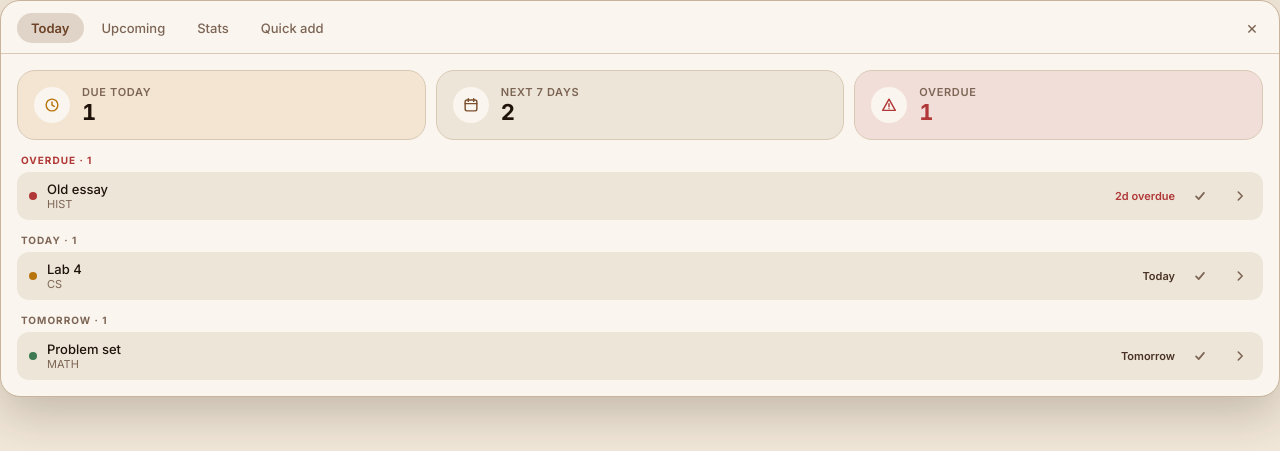
Scenario: QuickPanel › Upcoming tab lists open assignments from today on
Click the tab "Upcoming" at (133, 28), box [88, 13, 179, 43]
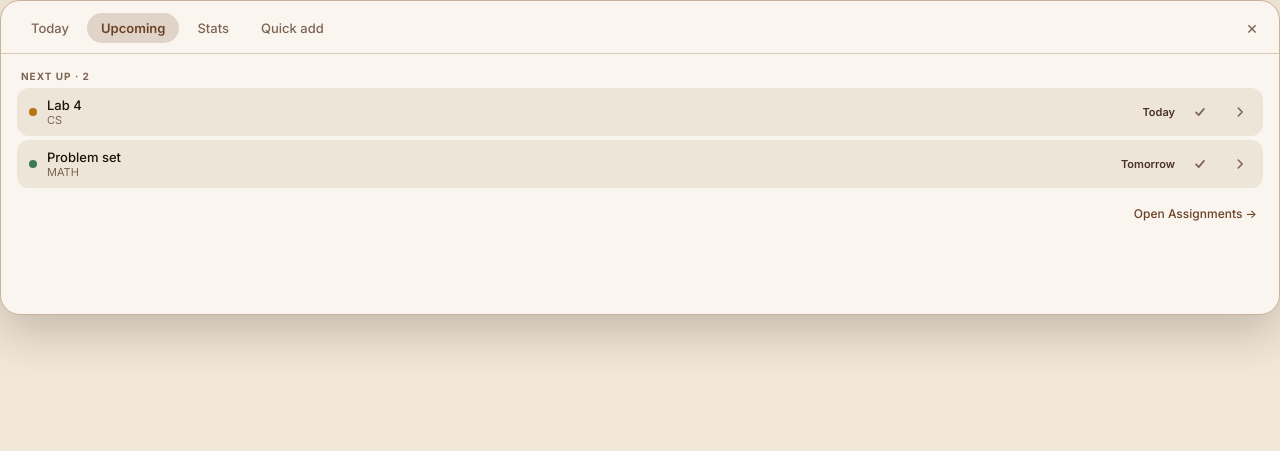
Expected: the text "Lab 4" is shown, [47, 97, 82, 113]
Expected: the text "Old essay" is gone
